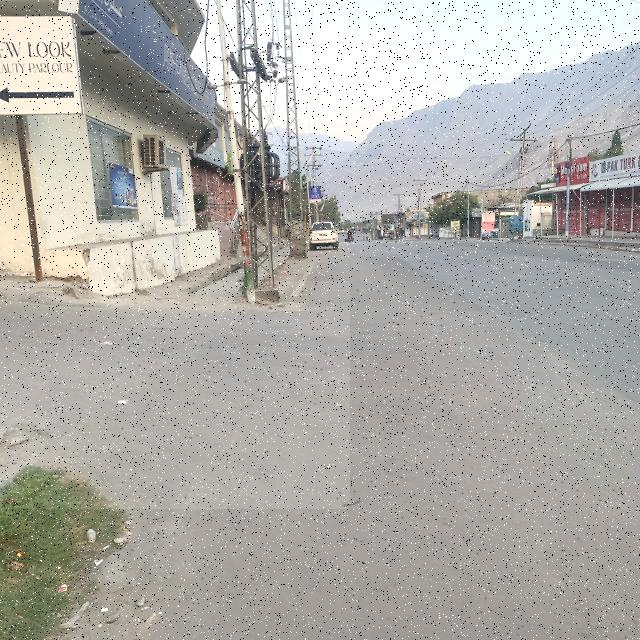left: (0, 281, 350, 509)
